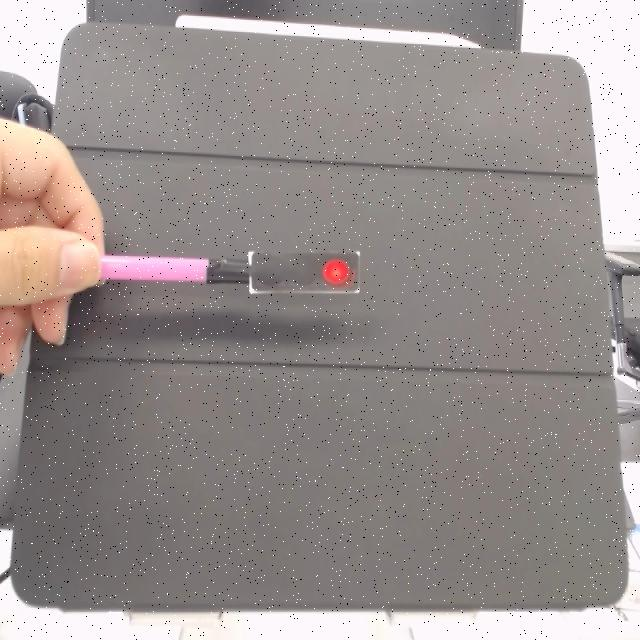traffic light: (248, 251, 365, 300)
